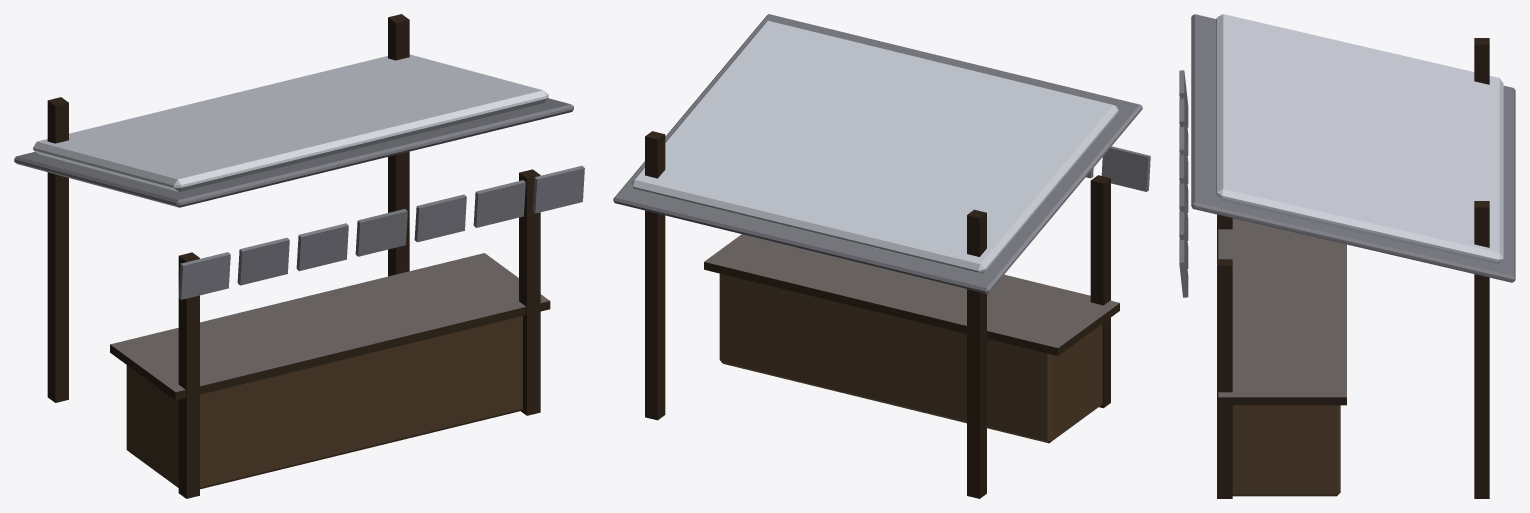
The model's file is village_stall_grey.glb.
3 renders of one model, left to right at view 1: azimuth 30°, elevation 25°; view 2: azimuth 150°, elevation 25°; view 3: azimuth 270°, elevation 25°, orthographic. The views are drawn at different scales.
Parts seen in each view (by area): view 1: village_stall_grey; view 2: village_stall_grey; view 3: village_stall_grey.
Part boxes in pixels (x1=…): village_stall_grey: x1=14, y1=14, x2=584, y2=498; village_stall_grey: x1=613, y1=14, x2=1150, y2=498; village_stall_grey: x1=1179, y1=14, x2=1515, y2=498.
Bounding box in the file's own units: 3.54 × 2.68 × 2.62.
